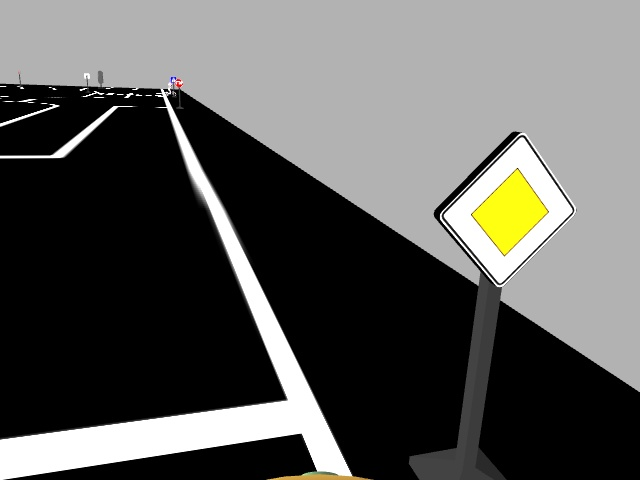Priority: (435, 130, 578, 286)
